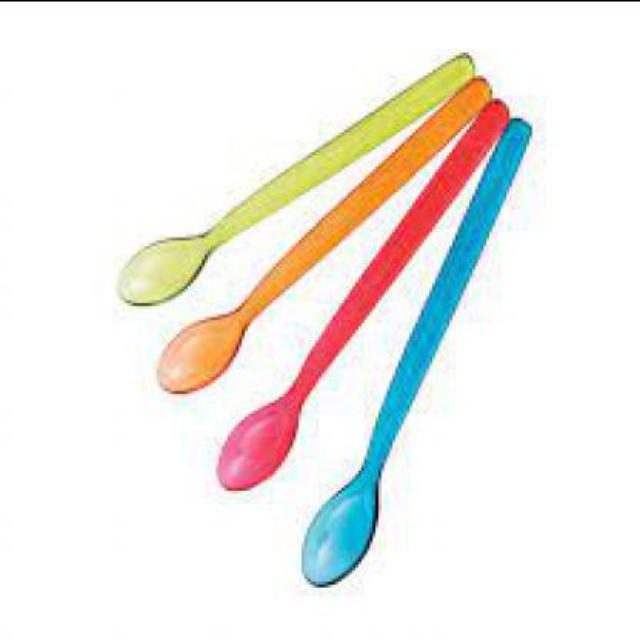plastic_cultery: (113, 48, 537, 582)
